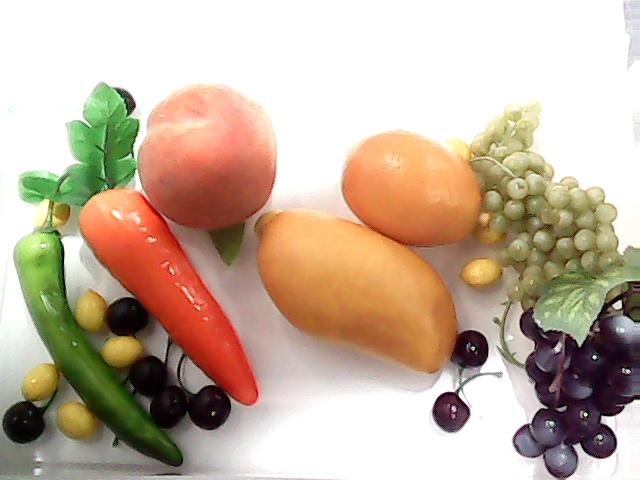carrot: (15, 81, 257, 407)
grape: (465, 96, 627, 316), (514, 257, 640, 475)
lemon: (340, 123, 482, 255)
mango: (253, 204, 462, 376)
peach: (136, 84, 278, 232)
pepper: (11, 212, 186, 470)
